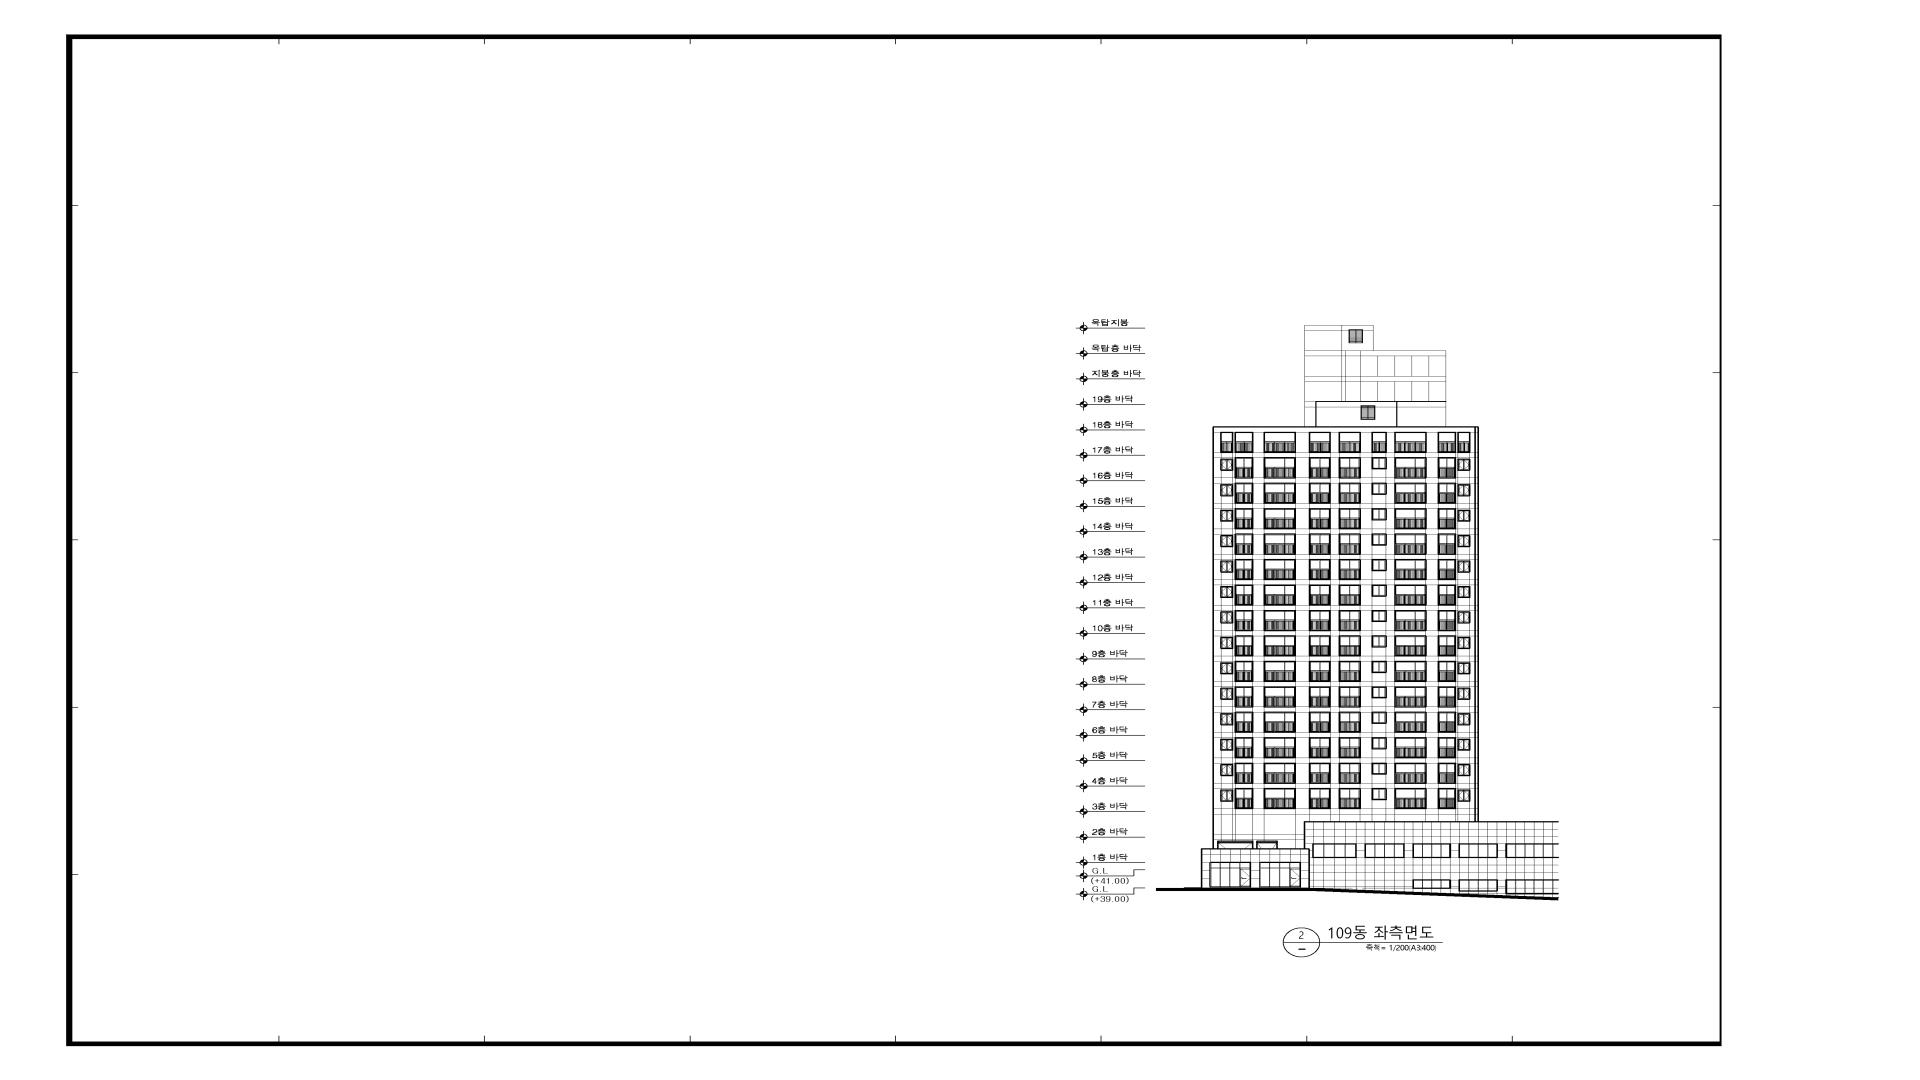door: (1209, 861, 1251, 887), (1259, 861, 1302, 887)
wall: (1201, 324, 1559, 901)
window: (1505, 844, 1560, 858), (1506, 880, 1560, 894), (1263, 711, 1296, 733), (1263, 762, 1296, 785), (1263, 787, 1296, 810), (1394, 787, 1427, 810), (1394, 762, 1427, 785), (1394, 686, 1427, 708), (1394, 508, 1427, 530), (1394, 431, 1427, 454), (1263, 431, 1296, 454), (1263, 686, 1296, 708), (1263, 737, 1296, 758), (1394, 737, 1427, 758), (1394, 712, 1427, 733), (1394, 661, 1427, 682), (1394, 636, 1427, 657), (1394, 611, 1427, 632), (1394, 584, 1427, 605), (1394, 559, 1427, 580), (1394, 534, 1427, 555), (1394, 483, 1427, 504), (1394, 458, 1427, 479), (1263, 458, 1296, 479), (1263, 483, 1296, 504), (1263, 508, 1296, 529), (1263, 534, 1296, 555), (1263, 559, 1296, 580), (1263, 584, 1296, 605), (1263, 611, 1296, 632), (1263, 636, 1296, 657), (1263, 661, 1296, 682), (1312, 844, 1357, 858), (1458, 843, 1498, 858), (1365, 844, 1404, 858), (1412, 844, 1452, 858), (1308, 787, 1331, 810), (1338, 686, 1361, 708), (1308, 431, 1331, 454), (1338, 762, 1361, 783), (1338, 789, 1361, 810), (1338, 712, 1361, 733), (1308, 636, 1331, 657), (1308, 611, 1331, 632), (1308, 458, 1331, 479), (1338, 458, 1361, 479), (1338, 483, 1361, 504), (1338, 508, 1361, 529), (1338, 534, 1361, 555), (1338, 559, 1361, 580), (1338, 584, 1361, 605), (1338, 611, 1361, 632), (1338, 636, 1361, 657), (1338, 661, 1361, 682), (1338, 737, 1361, 758), (1338, 433, 1361, 454), (1458, 880, 1498, 891), (1309, 762, 1331, 783), (1309, 737, 1331, 758), (1309, 712, 1331, 733), (1309, 686, 1331, 707), (1309, 661, 1331, 682), (1309, 584, 1331, 605), (1309, 559, 1331, 580), (1309, 534, 1331, 555), (1309, 508, 1331, 529), (1309, 483, 1331, 504), (1234, 787, 1254, 810), (1234, 762, 1254, 783), (1234, 431, 1254, 452), (1234, 483, 1254, 504), (1234, 534, 1254, 555), (1234, 559, 1254, 580), (1234, 584, 1254, 605), (1234, 611, 1254, 632), (1234, 636, 1254, 657), (1234, 712, 1254, 733), (1234, 737, 1254, 758), (1437, 508, 1456, 530), (1234, 508, 1253, 530), (1234, 686, 1253, 708), (1437, 686, 1456, 708), (1437, 762, 1456, 785), (1437, 458, 1456, 479), (1437, 483, 1456, 504), (1437, 534, 1456, 555), (1437, 559, 1456, 580), (1437, 431, 1456, 452), (1234, 458, 1253, 479), (1234, 661, 1253, 682), (1437, 584, 1456, 605), (1437, 611, 1456, 632), (1437, 636, 1456, 657), (1437, 661, 1456, 682), (1437, 712, 1456, 733), (1437, 737, 1456, 758), (1437, 789, 1456, 810), (1371, 431, 1387, 454), (1412, 880, 1451, 889), (1217, 840, 1253, 849), (1220, 431, 1233, 452), (1457, 431, 1470, 452), (1361, 405, 1375, 419), (1371, 508, 1387, 521), (1371, 533, 1387, 546), (1371, 584, 1387, 597), (1371, 609, 1387, 622), (1371, 686, 1387, 699), (1371, 762, 1387, 775), (1371, 787, 1387, 800), (1255, 840, 1278, 849), (1349, 330, 1364, 343), (1371, 458, 1387, 469), (1371, 483, 1387, 495), (1371, 559, 1387, 571), (1371, 636, 1387, 647), (1371, 661, 1387, 673), (1371, 712, 1387, 724), (1371, 737, 1387, 749), (1220, 509, 1233, 522), (1457, 509, 1470, 522), (1457, 585, 1470, 599), (1457, 764, 1470, 777), (1220, 764, 1233, 777), (1220, 687, 1233, 700), (1220, 662, 1233, 675), (1220, 585, 1233, 599), (1220, 535, 1233, 547), (1220, 484, 1233, 496), (1220, 459, 1233, 471), (1457, 459, 1470, 471), (1457, 484, 1470, 496), (1457, 535, 1470, 547), (1457, 560, 1470, 572), (1457, 612, 1470, 624), (1457, 637, 1470, 649), (1457, 662, 1470, 674), (1457, 688, 1470, 700), (1457, 713, 1470, 725), (1457, 738, 1470, 750), (1457, 790, 1470, 802), (1220, 790, 1233, 802), (1220, 738, 1233, 750), (1220, 713, 1233, 725), (1220, 637, 1233, 649), (1220, 612, 1233, 624), (1220, 560, 1233, 572)
